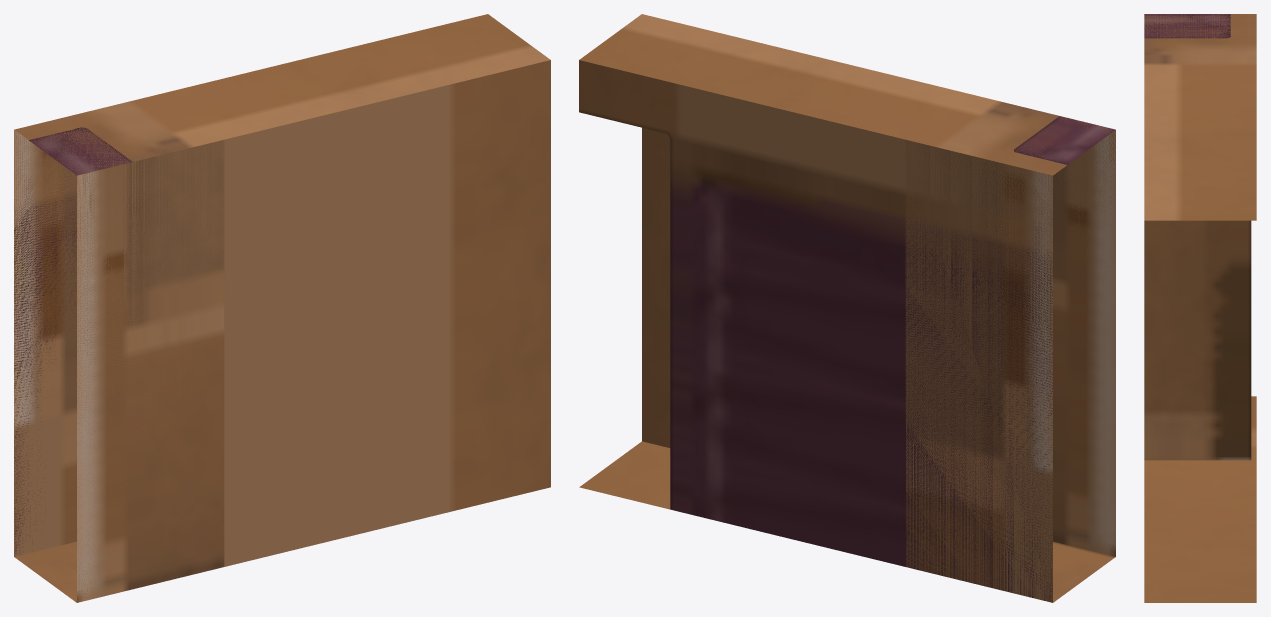
The model's file is section-7.obj.
3 views of the same model, side by side, from view 1: azimuth 30°, elevation 25°; view 2: azimuth 150°, elevation 25°; view 3: azimuth 270°, elevation 25° (orthographic). The views are drawn at different scales.
Bounding box in the file's own units: 0.8705 × 0.75 × 0.2.
